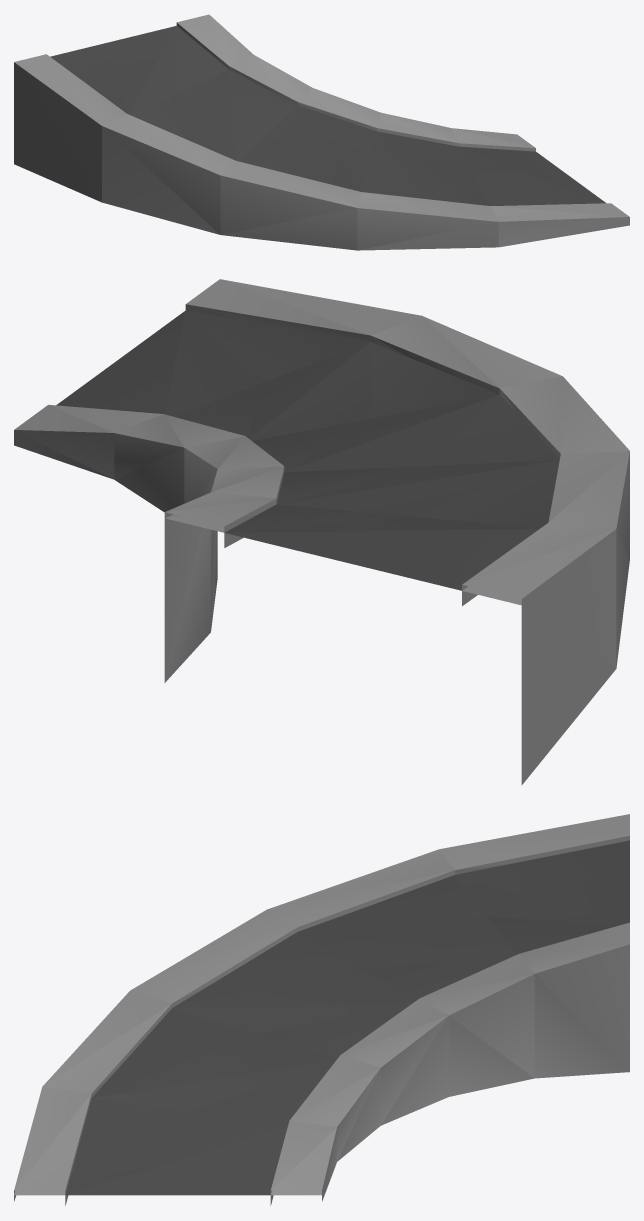
3 renders of one model, top to bottom at view 1: azimuth 30°, elevation 25°; view 2: azimuth 150°, elevation 25°; view 3: azimuth 270°, elevation 25°, orthographic. The views are drawn at different scales.
Parts seen in each view (by area): view 1: Model_0, Skybox; view 2: Model_0, Skybox; view 3: Model_0, Skybox.
Boxes of the visible parts, x1,y1,x2,y2 form: Model_0: (14, 14, 629, 250); Skybox: (51, 26, 605, 205); Model_0: (14, 279, 629, 785); Skybox: (56, 310, 559, 605); Model_0: (14, 814, 629, 1205); Skybox: (14, 841, 629, 1195).
Size of what is drawn, in the model's own units: 4800 by 1200 by 4800.
